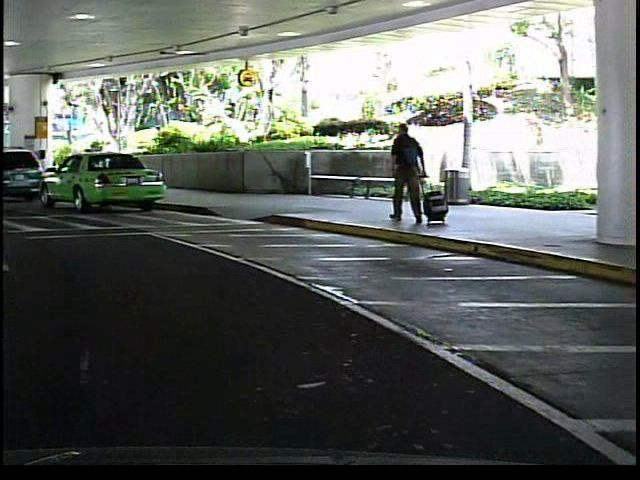person: (380, 112, 428, 232)
